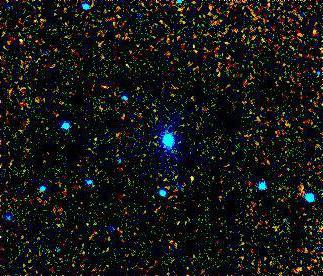star: (180, 169, 210, 199)
